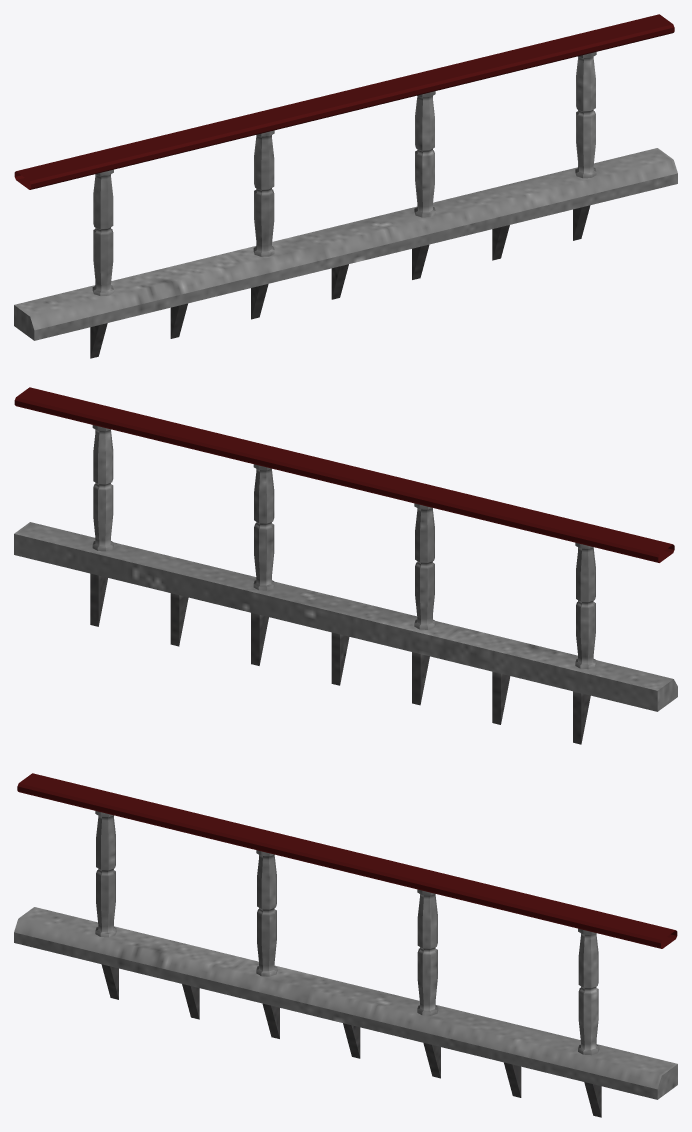
Rendered from RailStraightModule.obj.
3 views of the same model, one above another, from view 1: azimuth 30°, elevation 25°; view 2: azimuth 150°, elevation 25°; view 3: azimuth 330°, elevation 25° (orthographic).
Parts seen in each view (by area): view 1: StraightRail; view 2: StraightRail; view 3: StraightRail.
Part boxes in pixels (x1=…): StraightRail: x1=14, y1=14, x2=677, y2=358; StraightRail: x1=14, y1=387, x2=677, y2=744; StraightRail: x1=14, y1=773, x2=677, y2=1117.
Size of the model in its own units: 197 by 60.59 by 10.8.
Materials: 1 (1 with a texture image).
